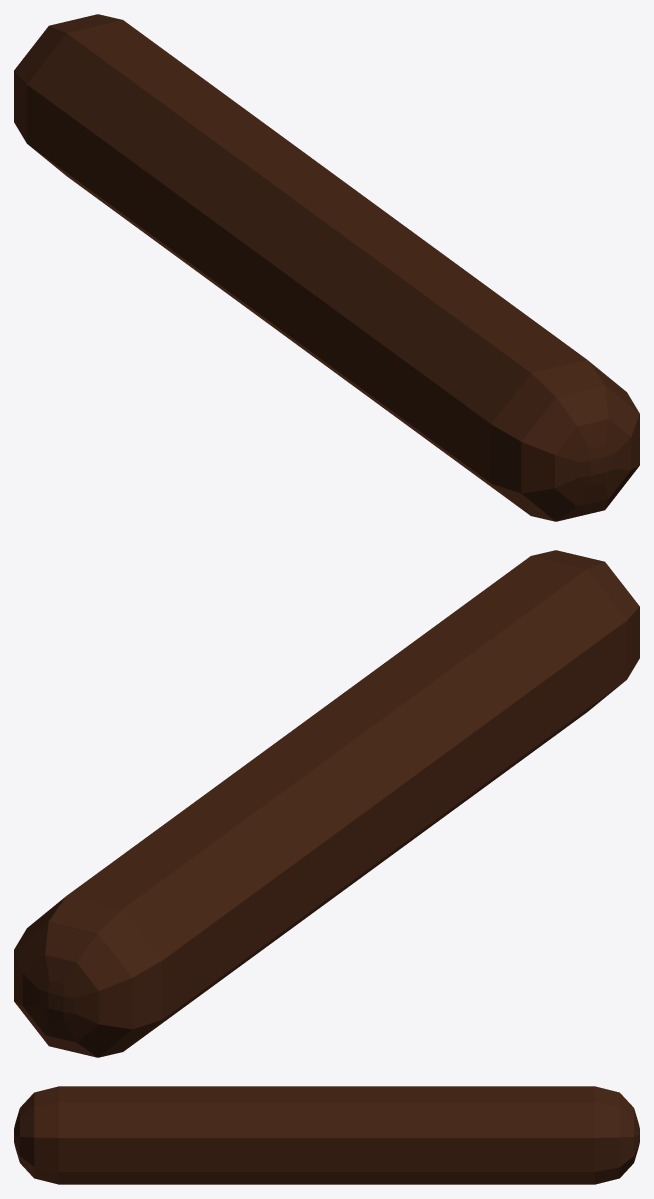
The model's file is Sausage_Cooked.obj.
The picture shows the model from 3 angles, top to bottom: view 1: azimuth 30°, elevation 25°; view 2: azimuth 150°, elevation 25°; view 3: azimuth 270°, elevation 25°; orthographic projection. The views are drawn at different scales.
Visible parts, largest first — view 1: Sausage_Cooked; view 2: Sausage_Cooked; view 3: Sausage_Cooked.
Part boxes in pixels (x1,y1,x2,y2): Sausage_Cooked: (14, 14, 639, 521); Sausage_Cooked: (14, 550, 639, 1057); Sausage_Cooked: (14, 1086, 639, 1184).
Size of the model in its own units: 0.2396 by 0.2413 by 1.66.
